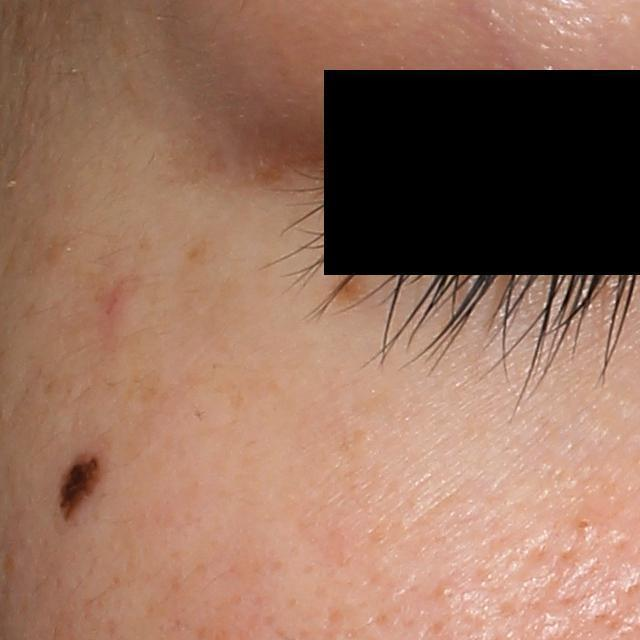comedo: (430, 579, 454, 601), (573, 512, 595, 533)
melasma: (326, 268, 372, 304)
nevus: (55, 453, 110, 528)
